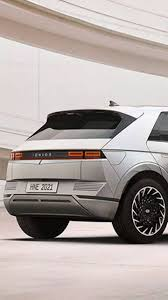Honda Ioniq: (3, 99, 168, 253)
